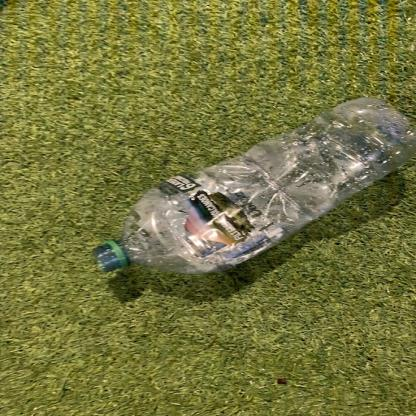trash: (91, 96, 416, 290)
